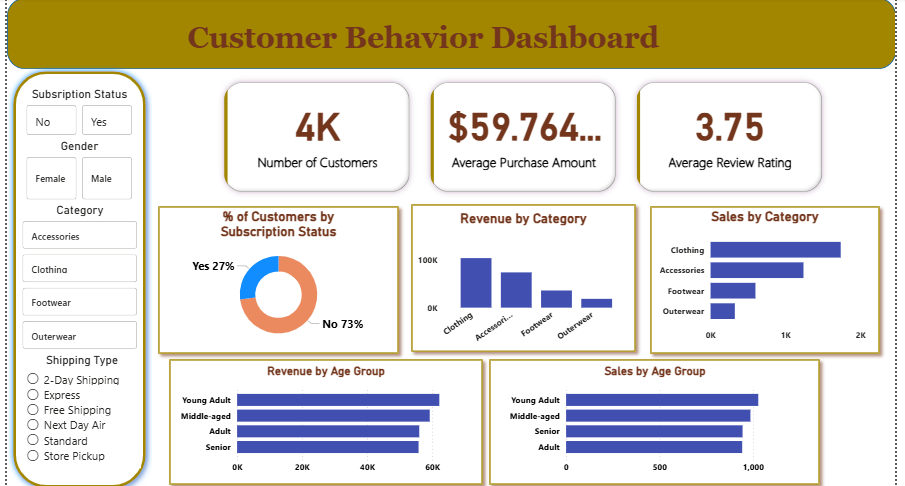

The page's visual inventory and layout, read from the dashboard file:
{"tool":"powerbi","page":{"name":"Page 1","canvas":[1280,720],"ordinal":0},"visuals":[{"type":"cardVisual","fields":{"Data":["customer_behaviour customer_behaviour.number of customers","customer_behaviour customer_behaviour.Average purchase amount","customer_behaviour customer_behaviour.Average Review rating"]},"box":[296.6,105.1,895.7,190.1],"z":0},{"type":"shape","box":[0,0,1280.2,102.2],"z":1000},{"type":"textbox","box":[255.3,26.9,880.2,75.6],"z":2000},{"type":"shape","box":[208.8,290.9,364.3,230.4],"z":3000},{"type":"donutChart","title":"% of Customers by Subscription Status","fields":{"Category":["customer_behaviour customer_behaviour.subscription_status"],"Y":["CountNonNull(customer_behaviour customer_behaviour.subscription_status)"]},"box":[224.6,302.4,332.6,201.6],"z":4000},{"type":"shape","box":[573.1,288,341.3,230.4],"z":5000},{"type":"shape","box":[917.3,290.9,348.5,230.4],"z":6000},{"type":"clusteredColumnChart","title":"Revenue by Category","fields":{"Y":["Sum(customer_behaviour customer_behaviour.purchase_amount)"],"Category":["customer_behaviour customer_behaviour.category"]},"box":[586.1,305.3,315.4,201.6],"z":7000},{"type":"clusteredBarChart","title":"Sales by Category","fields":{"Category":["customer_behaviour customer_behaviour.category"],"Y":["CountNonNull(customer_behaviour customer_behaviour.customer_id)"]},"box":[933.1,302.4,316.8,201.6],"z":8000},{"type":"shape","box":[0,96.5,208.8,617.8],"z":9000},{"type":"advancedSlicerVisual","title":"Subsription Status","fields":{"Values":["customer_behaviour customer_behaviour.subscription_status"]},"box":[23,128.2,162.7,74.9],"z":10000},{"type":"advancedSlicerVisual","title":"Gender","fields":{"Values":["customer_behaviour customer_behaviour.gender"]},"box":[23,203,162.7,92.2],"z":11000},{"type":"advancedSlicerVisual","title":"Category","fields":{"Values":["customer_behaviour customer_behaviour.category"]},"box":[17.3,295.2,175.7,216],"z":12000},{"type":"listSlicer","title":"Shipping Type","fields":{"Values":["customer_behaviour customer_behaviour.shipping_type"]},"box":[23,511.2,169.9,165.6],"z":13000},{"type":"shape","box":[224.6,511.2,469.4,198.7],"z":14000},{"type":"clusteredBarChart","title":"Revenue by Age Group","fields":{"Y":["Sum(customer_behaviour customer_behaviour.purchase_amount)"],"Category":["customer_behaviour customer_behaviour.age_group"]},"box":[243.4,527,432,167],"z":15000},{"type":"shape","box":[685.4,511.2,493.9,198.7],"z":16000},{"type":"clusteredBarChart","title":"Sales by Age Group","fields":{"Y":["CountNonNull(customer_behaviour customer_behaviour.customer_id)"],"Category":["customer_behaviour customer_behaviour.age_group"]},"box":[717.1,527,432,167],"z":17000}]}

Visuals, with their boxes in screenshot pixels (x1, y1, x2, y2):
cardVisual - customer_behaviour customer_behaviour.number of customers x customer_behaviour customer_behaviour.Average purchase amount: {"left": 207, "top": 70, "right": 824, "bottom": 201}
shape: {"left": 2, "top": 0, "right": 885, "bottom": 68}
textbox: {"left": 178, "top": 16, "right": 785, "bottom": 68}
shape: {"left": 146, "top": 198, "right": 397, "bottom": 357}
"% of Customers by Subscription Status" donutChart: {"left": 157, "top": 206, "right": 387, "bottom": 345}
shape: {"left": 397, "top": 196, "right": 633, "bottom": 355}
shape: {"left": 635, "top": 198, "right": 875, "bottom": 357}
"Revenue by Category" clusteredColumnChart: {"left": 406, "top": 208, "right": 624, "bottom": 347}
"Sales by Category" clusteredBarChart: {"left": 646, "top": 206, "right": 864, "bottom": 345}
shape: {"left": 2, "top": 64, "right": 146, "bottom": 485}
"Subsription Status" advancedSlicerVisual: {"left": 18, "top": 86, "right": 130, "bottom": 138}
"Gender" advancedSlicerVisual: {"left": 18, "top": 138, "right": 130, "bottom": 201}
"Category" advancedSlicerVisual: {"left": 14, "top": 201, "right": 135, "bottom": 350}
"Shipping Type" listSlicer: {"left": 18, "top": 350, "right": 135, "bottom": 464}
shape: {"left": 157, "top": 350, "right": 481, "bottom": 485}
"Revenue by Age Group" clusteredBarChart: {"left": 170, "top": 361, "right": 468, "bottom": 476}
shape: {"left": 475, "top": 350, "right": 815, "bottom": 485}
"Sales by Age Group" clusteredBarChart: {"left": 497, "top": 361, "right": 795, "bottom": 476}
